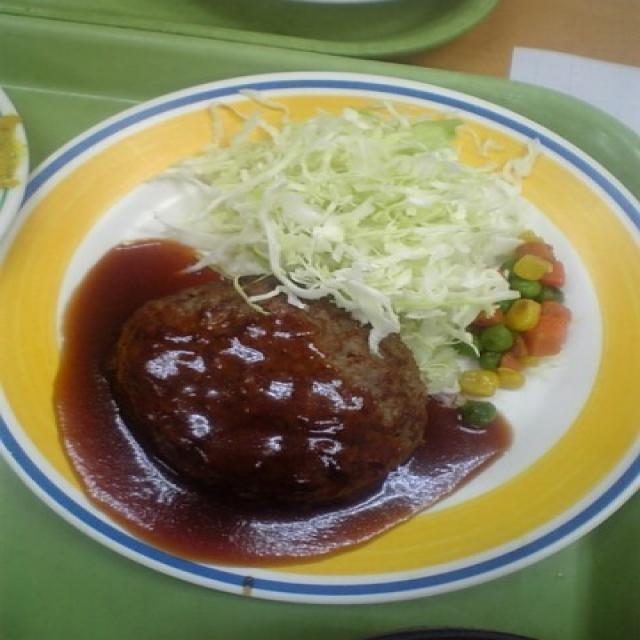Green Salad: (242, 118, 518, 302)
